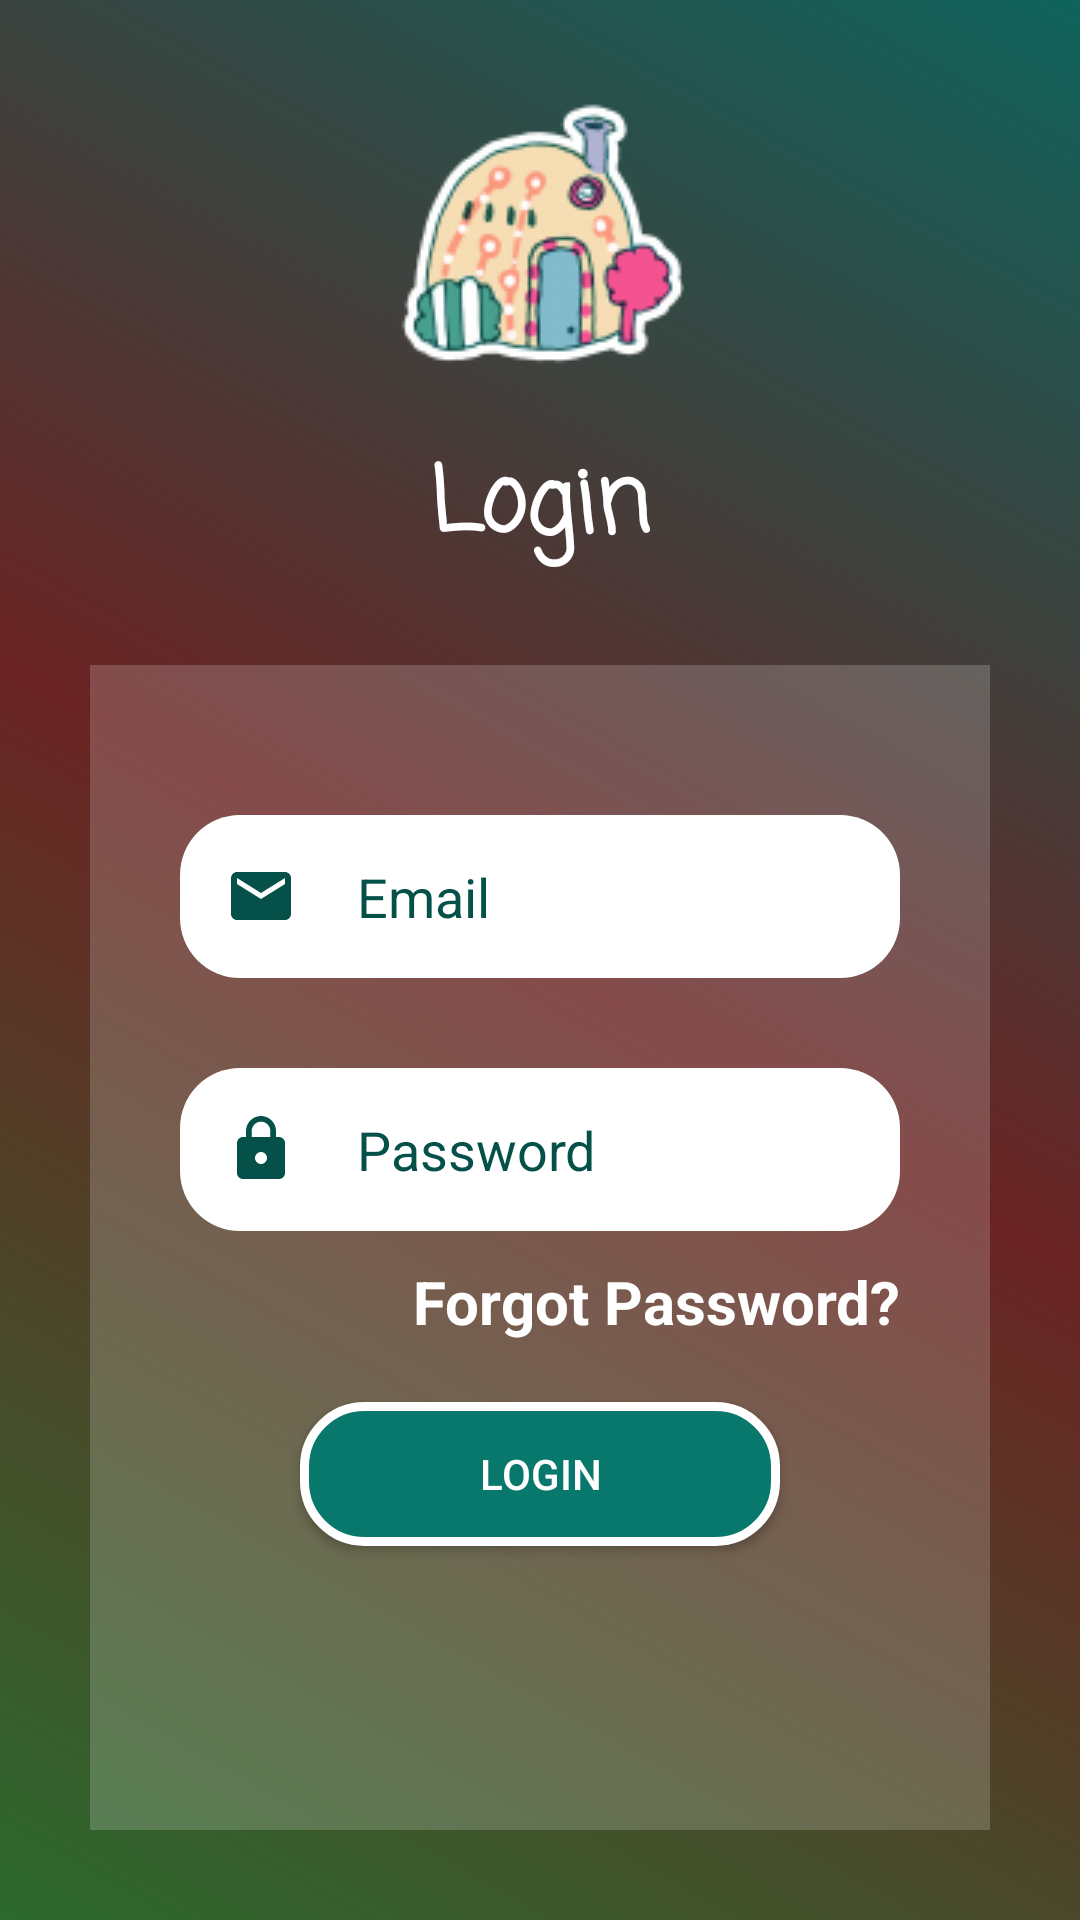

Icons on this 1080px×1920px Android screen, each with its box as (x1, y1, x2, y2):
home: (402, 90, 684, 363)
